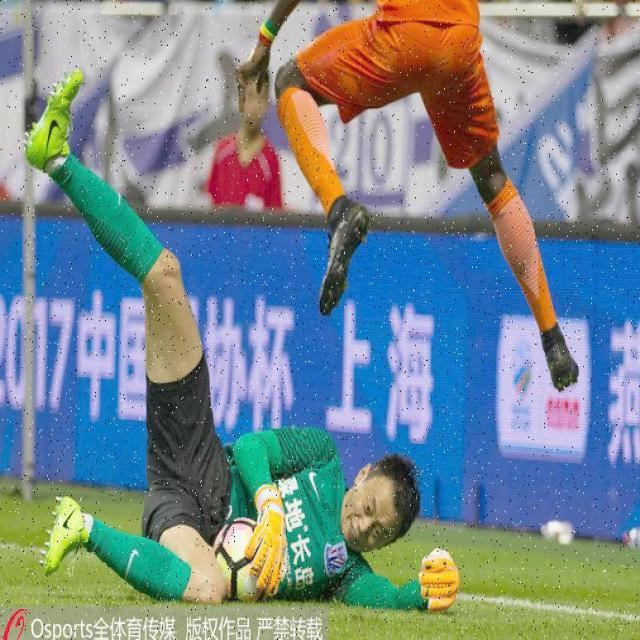fall: (73, 190, 450, 603)
